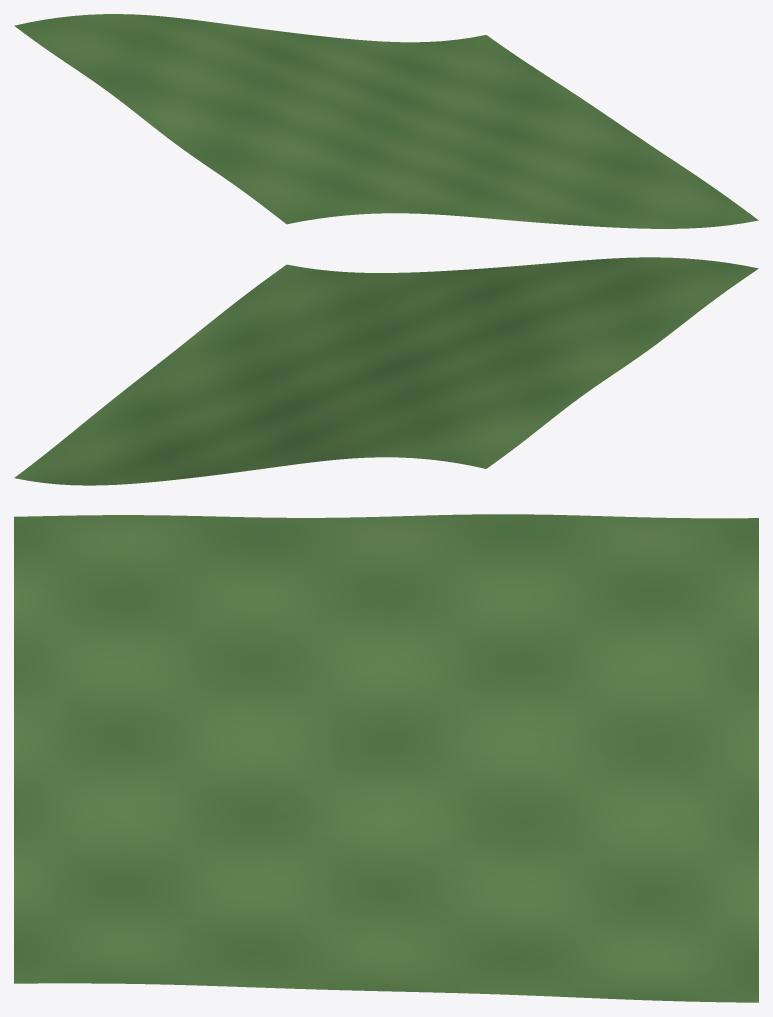
The model's file is chunk_0_5.glb.
3 renders of one model, top to bottom at view 1: azimuth 30°, elevation 25°; view 2: azimuth 150°, elevation 25°; view 3: azimuth 270°, elevation 25°, orthographic. The views are drawn at different scales.
Size of the model in its own units: 512 by 132 by 512.
